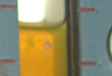border: (74, 6, 99, 14), (75, 61, 101, 67), (0, 58, 18, 66), (0, 3, 20, 10)
liquidlevel: (17, 18, 68, 35)
